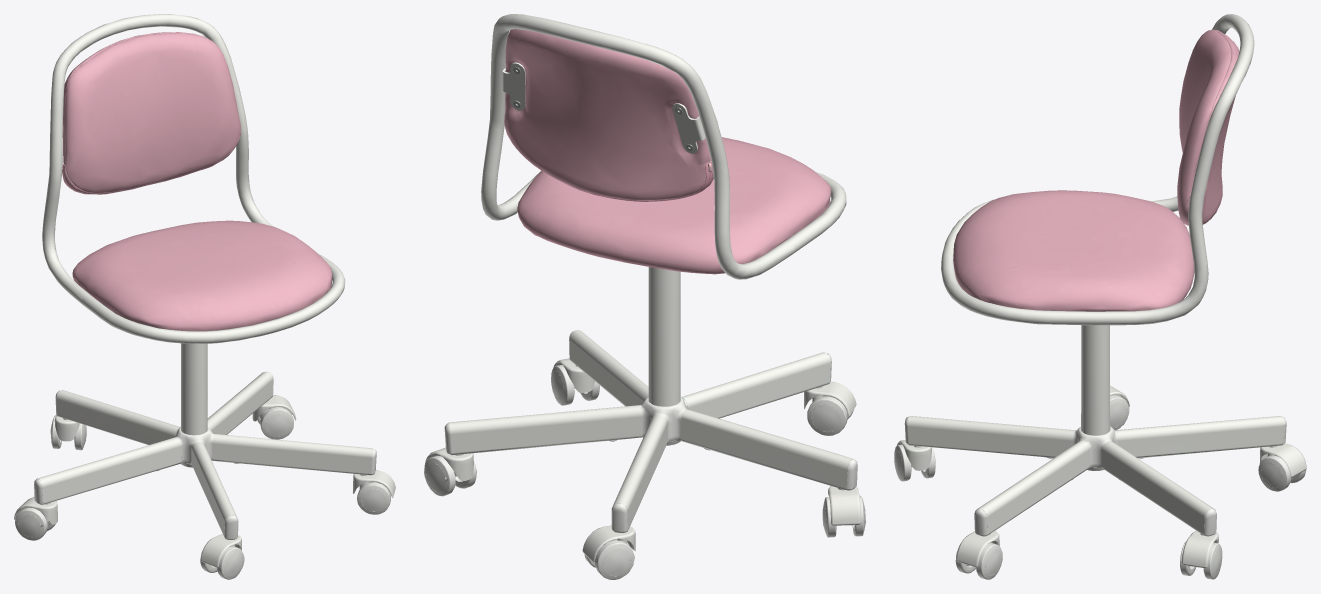
Rendered from 09 - ÖRFJÄLL - 兒童書桌椅, 白色Vissle 粉紅色 IKEA 線上購物.glb.
3 views of the same model, side by side, from view 1: azimuth 30°, elevation 25°; view 2: azimuth 150°, elevation 25°; view 3: azimuth 270°, elevation 25° (orthographic). The views are drawn at different scales.
Visible parts, largest first — view 1: 30441771-ÃƒÆ’Ã¢â‚¬â€œRFJÃƒÆ’Ã¢â‚¬Å¾LL001; view 2: 30441771-ÃƒÆ’Ã¢â‚¬â€œRFJÃƒÆ’Ã¢â‚¬Å¾LL001; view 3: 30441771-ÃƒÆ’Ã¢â‚¬â€œRFJÃƒÆ’Ã¢â‚¬Å¾LL001.
Boxes of the visible parts, x1,y1,x2,y2 form: 30441771-ÃƒÆ’Ã¢â‚¬â€œRFJÃƒÆ’Ã¢â‚¬Å¾LL001: [14, 14, 395, 579]; 30441771-ÃƒÆ’Ã¢â‚¬â€œRFJÃƒÆ’Ã¢â‚¬Å¾LL001: [424, 14, 865, 579]; 30441771-ÃƒÆ’Ã¢â‚¬â€œRFJÃƒÆ’Ã¢â‚¬Å¾LL001: [894, 14, 1306, 579].
Size of the model in its own units: 0.5562 by 0.7145 by 0.5691.
1 material, 1 textured.
